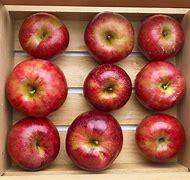apple: (54, 104, 129, 177), (6, 57, 69, 116), (124, 114, 190, 170), (5, 115, 62, 173), (15, 8, 77, 61), (73, 11, 133, 61), (133, 62, 190, 111), (133, 11, 187, 60), (80, 66, 137, 109)
